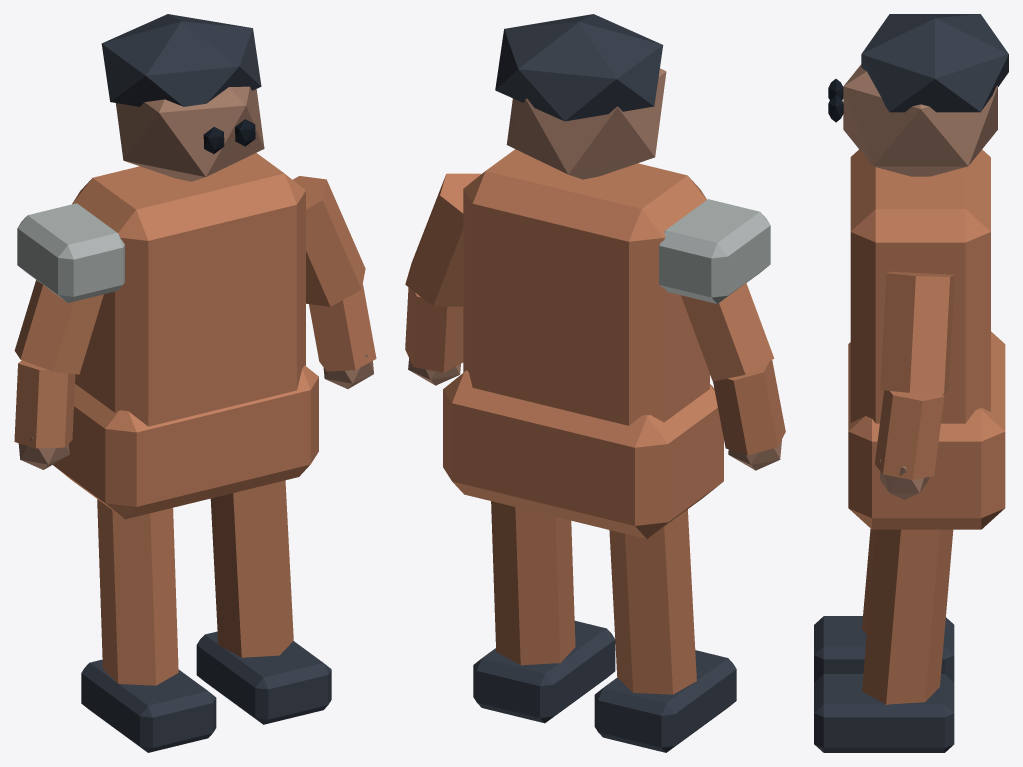
File: npcs_029_seed11.glb
3 views of the same model, side by side, from view 1: azimuth 30°, elevation 25°; view 2: azimuth 150°, elevation 25°; view 3: azimuth 270°, elevation 25° (orthographic). The views are drawn at different scales.
Visible parts, largest first — view 1: npcs_029_seed11; view 2: npcs_029_seed11; view 3: npcs_029_seed11.
Part boxes in pixels (bbox=[...]): npcs_029_seed11: bbox=[14, 14, 376, 752]; npcs_029_seed11: bbox=[405, 14, 785, 752]; npcs_029_seed11: bbox=[814, 14, 1008, 752].
Bounding box in the file's own units: 1.04 × 1.88 × 0.4814.
